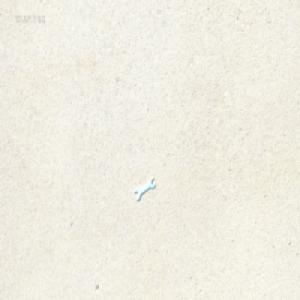Wrench: (134, 176, 155, 202)
